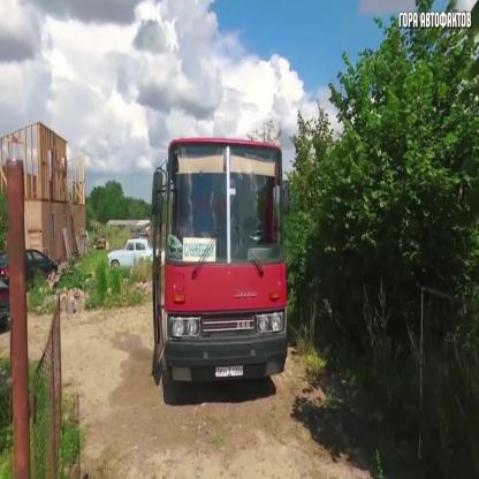bus: (147, 132, 291, 406)
car: (0, 232, 59, 288), (106, 235, 160, 278)
